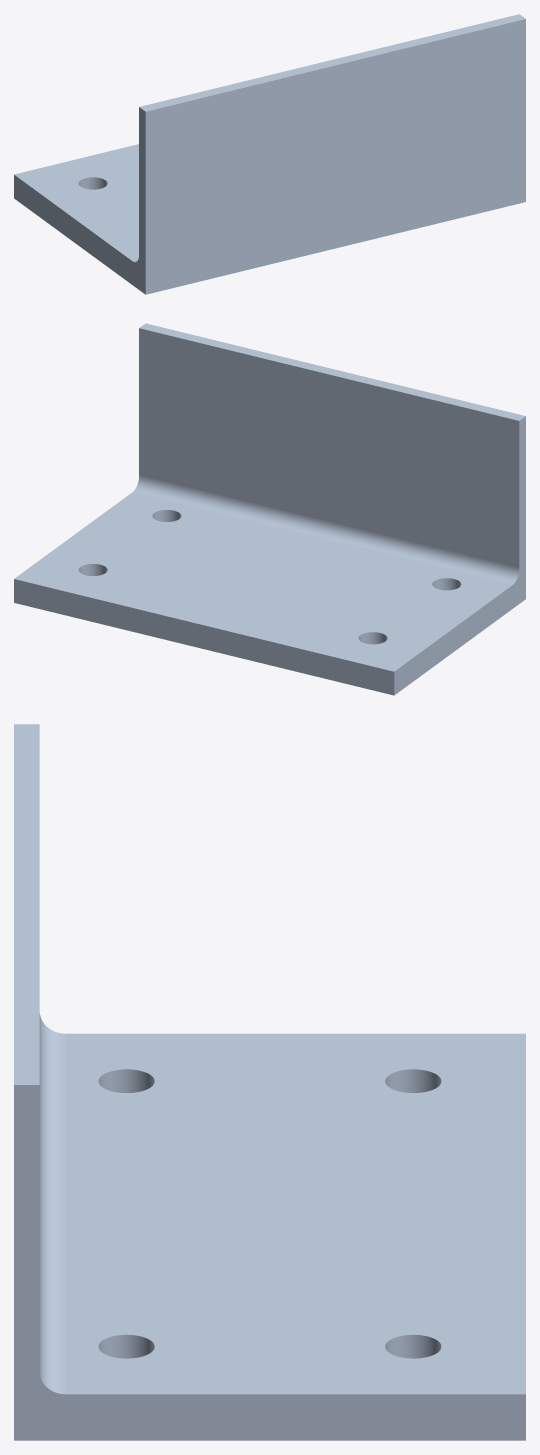
3 renders of one model, top to bottom at view 1: azimuth 30°, elevation 25°; view 2: azimuth 150°, elevation 25°; view 3: azimuth 270°, elevation 25°, orthographic. The views are drawn at different scales.
Parts seen in each view (by area): view 1: part; view 2: part; view 3: part.
Part boxes in pixels (x1,y1,x2,y2): part: [14, 14, 525, 294]; part: [14, 323, 525, 695]; part: [14, 724, 525, 1440].
Bounding box in the file's own units: 100 × 46 × 60.
